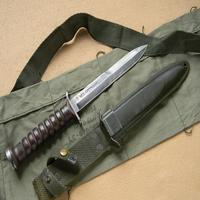knife: (6, 42, 148, 169)
